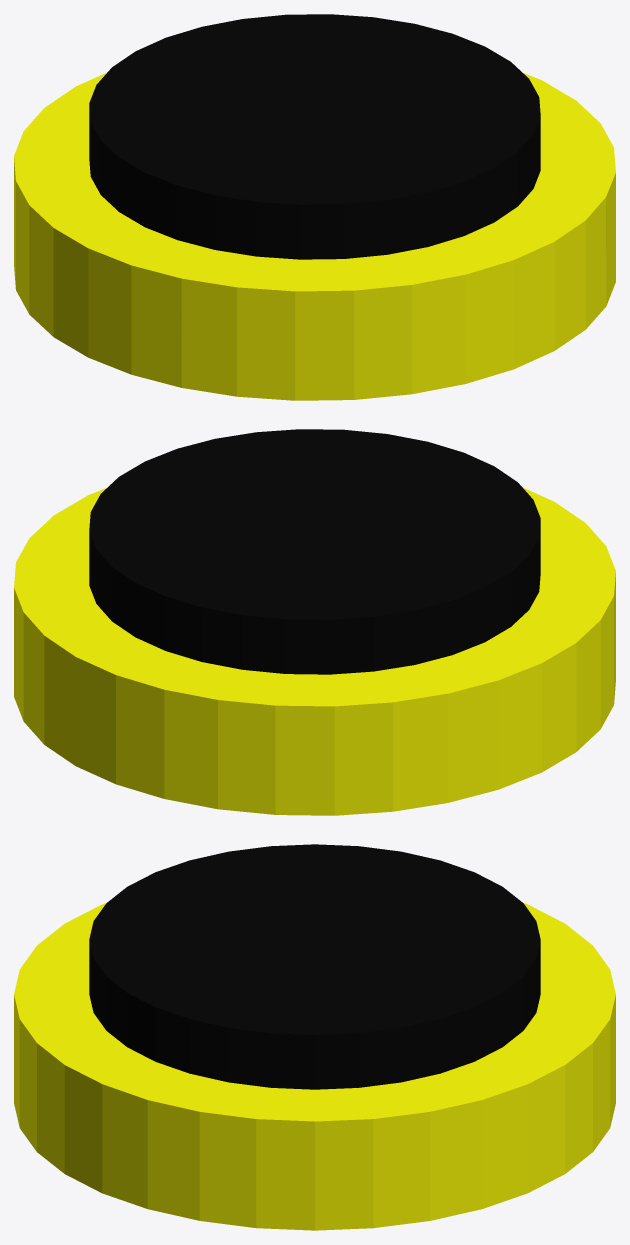
Rendered from YellowNote.obj.
3 renders of one model, top to bottom at view 1: azimuth 30°, elevation 25°; view 2: azimuth 150°, elevation 25°; view 3: azimuth 270°, elevation 25°, orthographic.
Visible parts, largest first — view 1: Base, Top; view 2: Base, Top; view 3: Base, Top.
Part boxes in pixels (x1,y1,x2,y2): Base: [14, 72, 615, 400]; Top: [89, 14, 540, 259]; Base: [14, 487, 615, 815]; Top: [89, 429, 540, 674]; Base: [14, 903, 615, 1230]; Top: [89, 844, 540, 1089].
Bounding box in the file's own units: 2 × 0.6 × 2.
